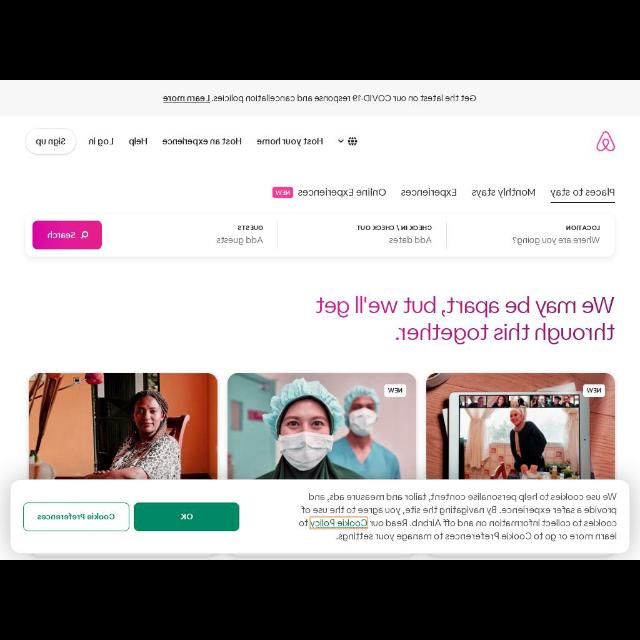icon: (593, 128, 619, 154), (272, 184, 294, 202), (346, 134, 360, 148), (80, 228, 90, 240), (338, 136, 344, 146)
iframe: (8, 480, 630, 554)
image: (29, 372, 217, 480), (426, 373, 616, 479), (227, 372, 417, 478)
input: (27, 217, 277, 256), (278, 216, 448, 254), (448, 217, 614, 255)
link: (310, 518, 368, 528)
multitab: (1, 180, 639, 204)
spinner: (334, 130, 362, 150)
text: (297, 490, 618, 542), (313, 293, 617, 345), (160, 94, 478, 104), (271, 184, 387, 202), (511, 234, 602, 248), (548, 184, 616, 200), (355, 222, 433, 234), (470, 186, 536, 200), (37, 511, 115, 522), (160, 136, 244, 146), (256, 136, 324, 148), (399, 186, 458, 198), (214, 234, 264, 246), (386, 234, 434, 246), (34, 135, 68, 149), (46, 228, 76, 240), (384, 384, 408, 398), (125, 135, 148, 149), (88, 136, 114, 148), (584, 385, 604, 397), (236, 223, 264, 231), (179, 510, 195, 520), (563, 226, 601, 230)
textbutton: (23, 502, 131, 532), (133, 502, 239, 532), (32, 220, 102, 250), (22, 128, 78, 156)
toolbar: (1, 120, 640, 163)
